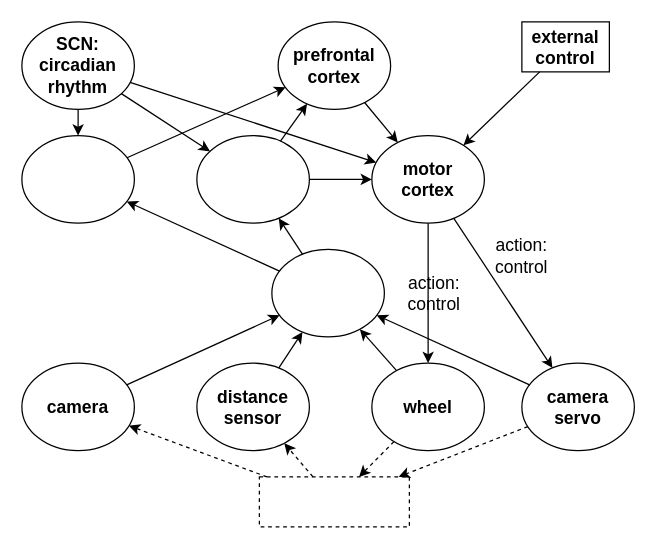
Image size: 656x549. Some labels were removed from this diagram. Here are the shapes that lost their labels. From the top down, the centre of each, then its label:
At pixel 77 178: "NREM-related structure".
At pixel 252 178: "REM-related structure".
At pixel 327 292: "short-term memory".
At pixel 333 501: "environment".
